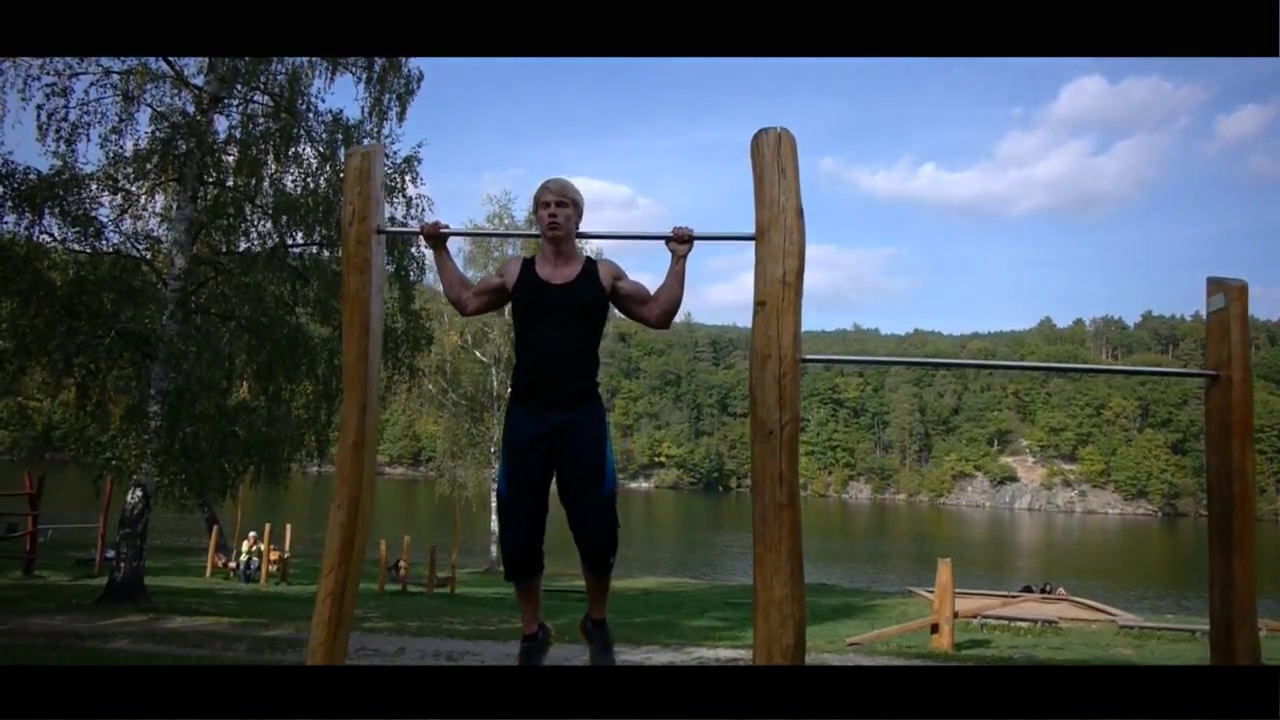person: (419, 178, 694, 664)
